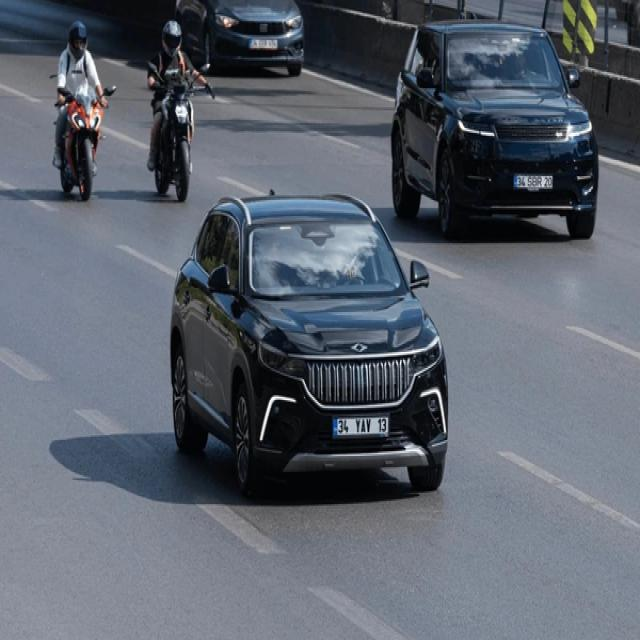togg: (344, 342, 369, 357)
